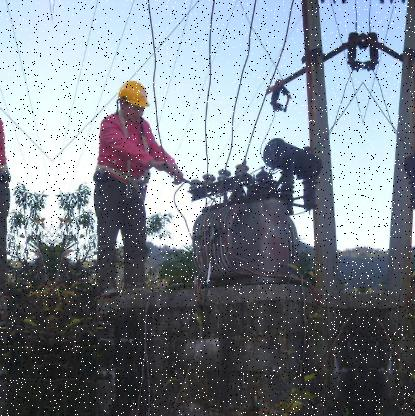helmet: (116, 77, 150, 123)
